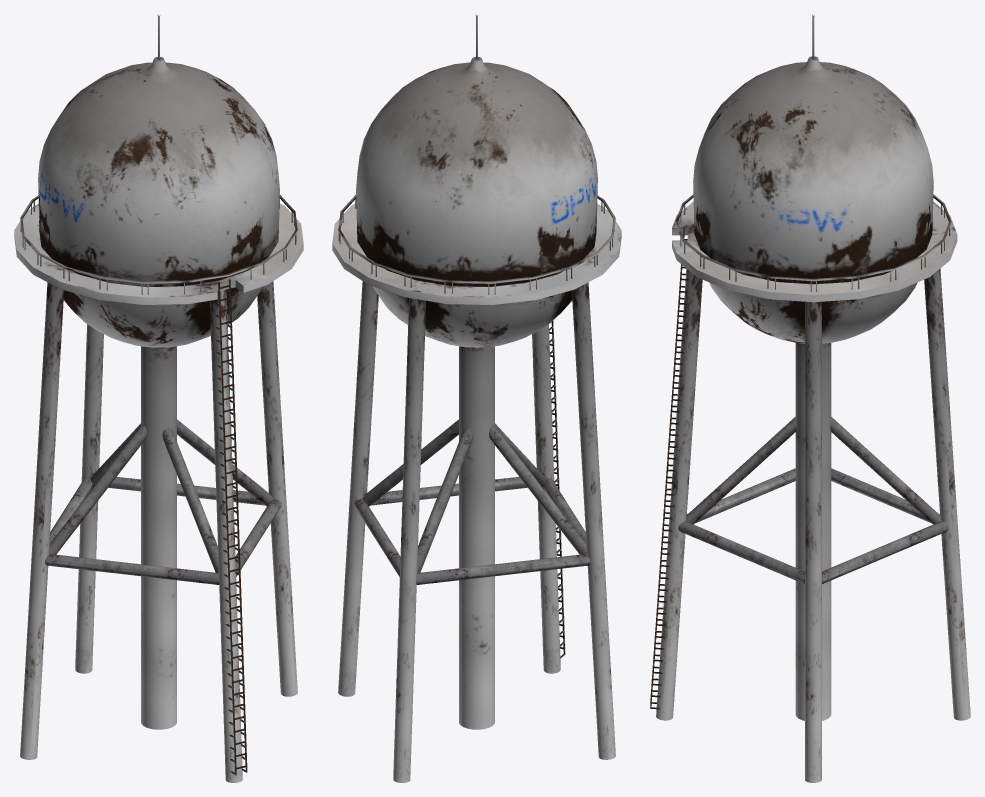
The model's file is v_wtower.glb.
The picture shows the model from 3 angles, left to right: view 1: azimuth 30°, elevation 25°; view 2: azimuth 150°, elevation 25°; view 3: azimuth 270°, elevation 25°; orthographic projection.
Visible parts, largest first — view 1: body|initialShadingGroup; view 2: body|initialShadingGroup; view 3: body|initialShadingGroup.
Boxes of the visible parts, x1,y1,x2,y2 form: body|initialShadingGroup: (14,14,303,782); body|initialShadingGroup: (332,14,621,782); body|initialShadingGroup: (650,14,970,782).
Bounding box in the file's own units: 8.11 × 20 × 8.27.
Materials: 1 (1 with a texture image).
